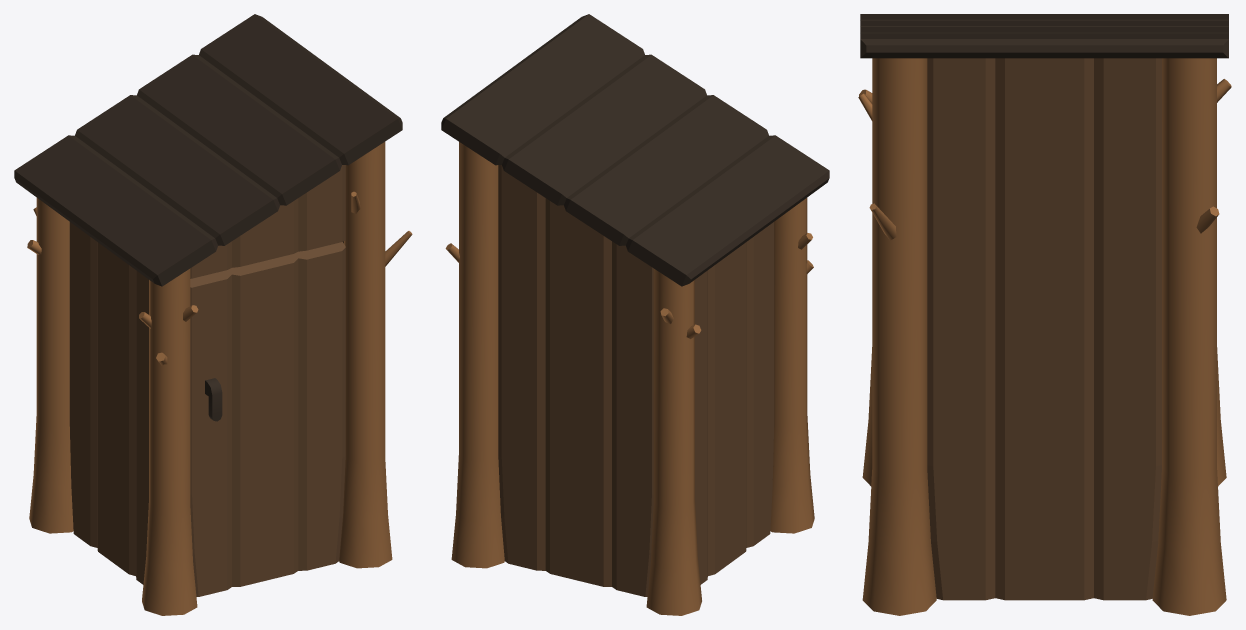
File: Outhouse.fbx
3 renders of one model, left to right at view 1: azimuth 30°, elevation 25°; view 2: azimuth 150°, elevation 25°; view 3: azimuth 270°, elevation 25°, orthographic. The views are drawn at different scales.
Visible parts, largest first — view 1: Walls, Roof, Posts, DoorHandle; view 2: Walls, Roof, Posts; view 3: Walls, Posts, Roof.
Boxes of the visible parts, bbox=[...] form: Walls: bbox=[69, 165, 345, 596]; Roof: bbox=[14, 14, 402, 286]; Posts: bbox=[27, 142, 412, 615]; DoorHandle: bbox=[205, 378, 222, 421]; Walls: bbox=[498, 165, 774, 596]; Roof: bbox=[441, 14, 829, 286]; Posts: bbox=[445, 142, 814, 615]; Walls: bbox=[927, 58, 1161, 600]; Posts: bbox=[858, 58, 1231, 615]; Roof: bbox=[860, 14, 1228, 58].
Bounding box in the file's own units: 185 × 301 × 178.
